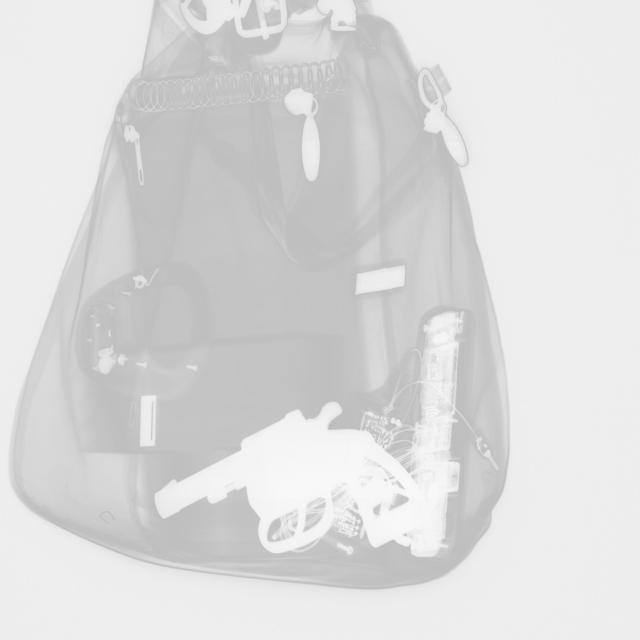pistol: (155, 402, 419, 554)
